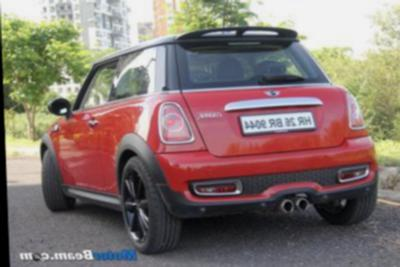License_Plate: (239, 109, 315, 139)
